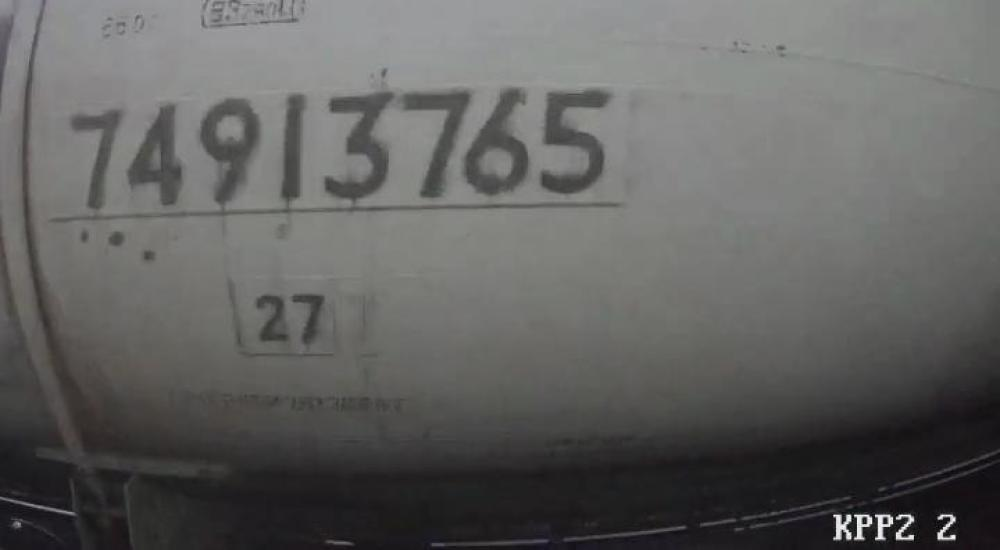Wagon-number: (64, 84, 615, 216)
